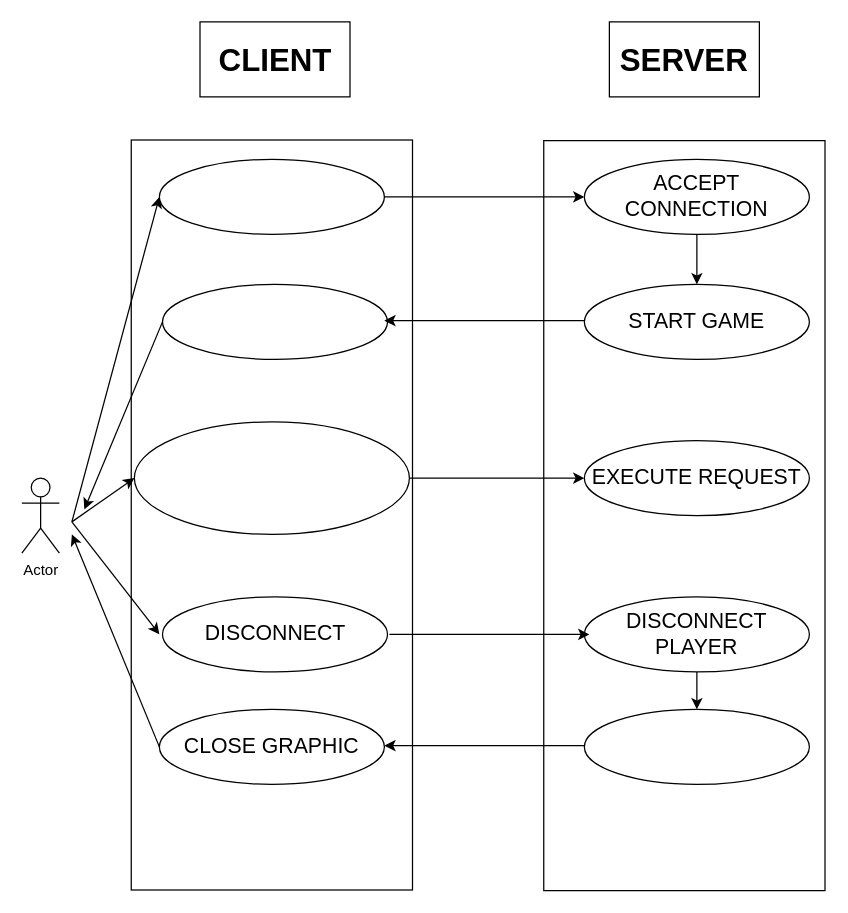
Some shapes in this 848 by 913 pixel diagram are drawn without their labels. The shapes that lost their labels are listed below. From the top down, each one's centre as x and y in pixels, then its label:
At point 271,196: "CONNECTION".
At point 274,321: "SHOW GRAPHIC".
At point 271,477: "DRAW / PLAY CARDS / ADD CARD / PASS TURN".
At point 696,746: "FINISH GAME".
